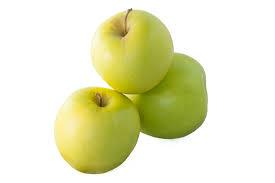Apple: (119, 52, 208, 139), (54, 88, 140, 174), (91, 11, 174, 93)
